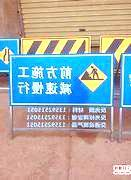sign: (9, 55, 114, 106)
